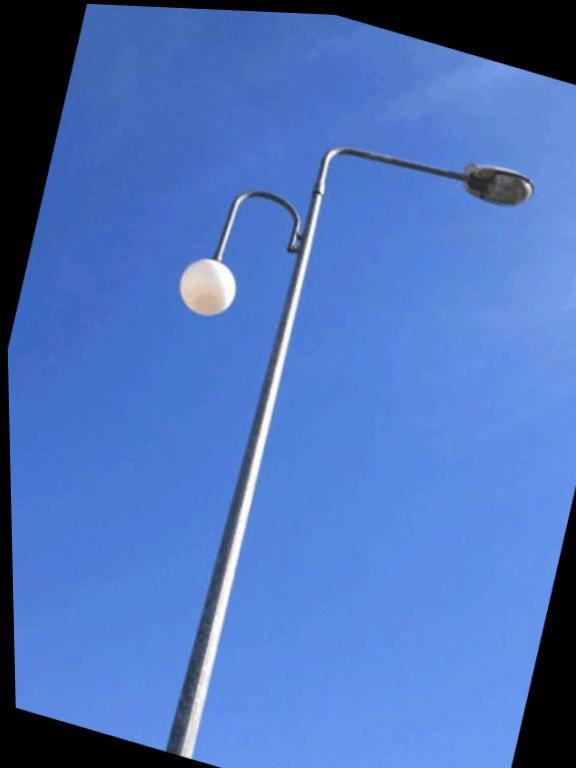Animal: (42, 31, 555, 768)
